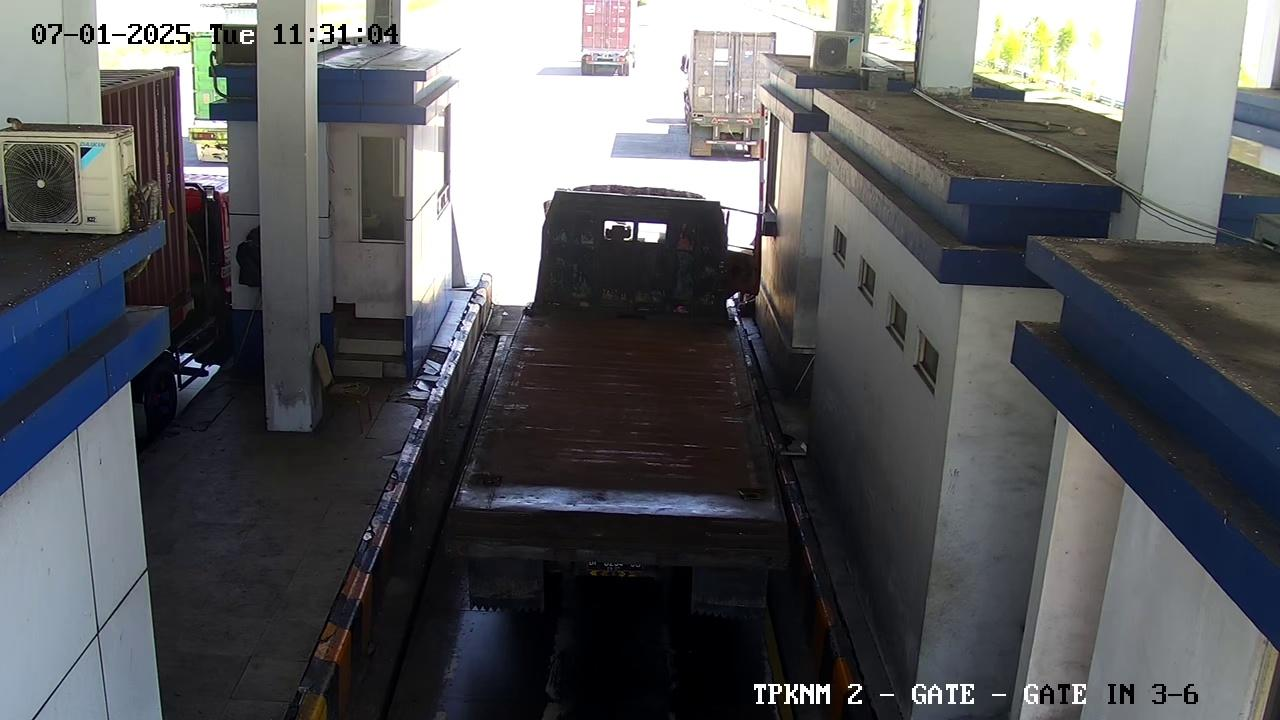plate_number: (579, 547, 650, 584)
